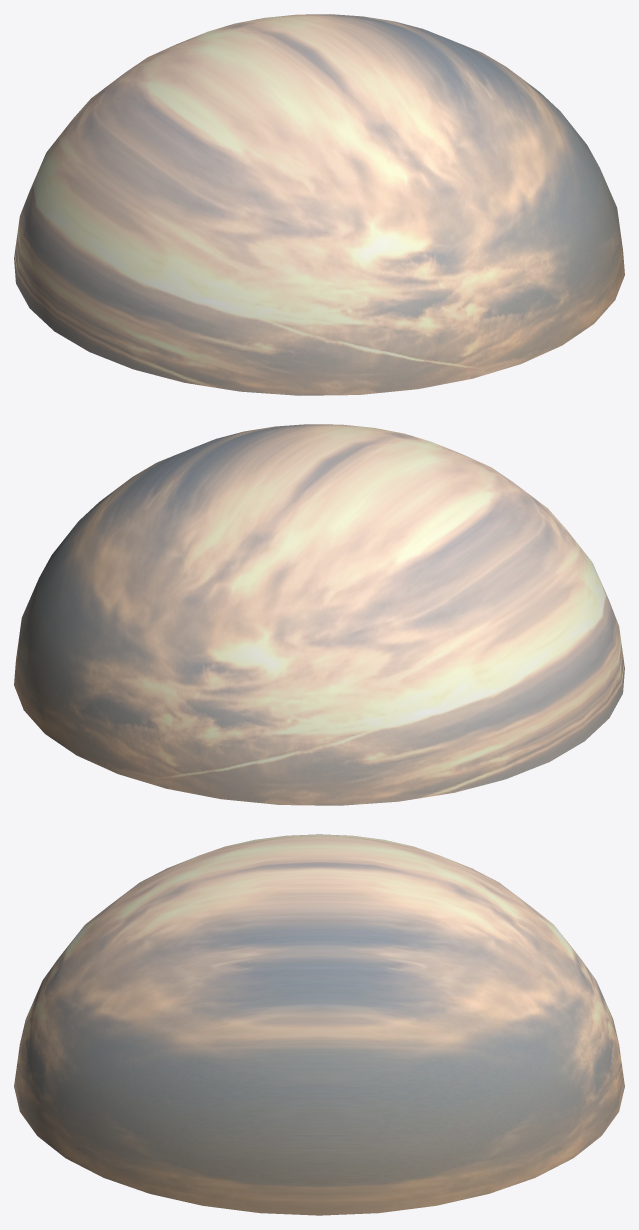
The model's file is sky.obj.
3 renders of one model, top to bottom at view 1: azimuth 30°, elevation 25°; view 2: azimuth 150°, elevation 25°; view 3: azimuth 270°, elevation 25°, orthographic.
Visible parts, largest first — view 1: Sphère; view 2: Sphère; view 3: Sphère.
Part boxes in pixels (x1=…): Sphère: x1=14, y1=14, x2=624, y2=395; Sphère: x1=14, y1=424, x2=624, y2=805; Sphère: x1=14, y1=834, x2=624, y2=1215.
Bounding box in the file's own units: 23297 × 9130 × 23297.
Materials: 1 (1 with a texture image).
